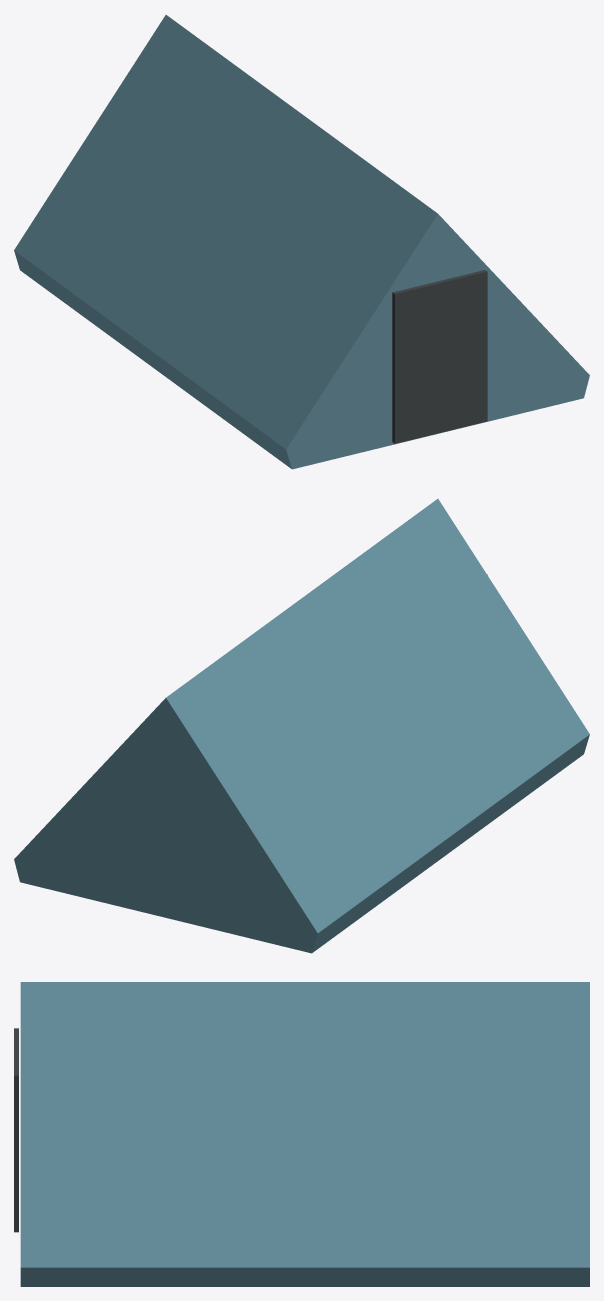
File: endurance-and-gt-paddock-campsite-tent-5ec66847__14918.glb
3 renders of one model, top to bottom at view 1: azimuth 30°, elevation 25°; view 2: azimuth 150°, elevation 25°; view 3: azimuth 270°, elevation 25°, orthographic. The views are drawn at different scales.
Parts seen in each view (by area): view 1: campsite-tent; view 2: campsite-tent; view 3: campsite-tent.
Part boxes in pixels (box(x1,y1,x2,y2)): campsite-tent: box(14, 15, 589, 469); campsite-tent: box(14, 499, 589, 953); campsite-tent: box(14, 982, 589, 1286).
Size of the model in its own units: 1.81 by 1.25 by 2.83.
